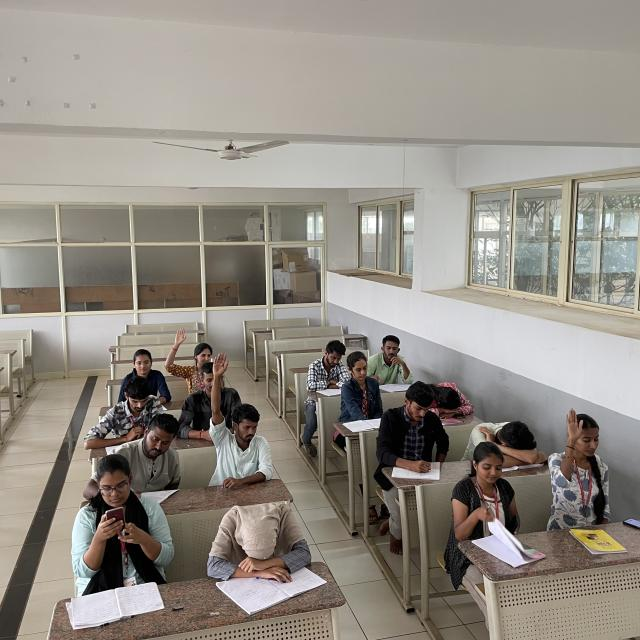Hand Rising: (209, 350, 276, 474), (547, 404, 609, 502), (162, 326, 215, 384)
Reading: (85, 378, 160, 453), (307, 339, 354, 398)
Sleeping: (204, 496, 312, 570), (467, 420, 552, 468), (426, 377, 475, 418)
Using Phone: (75, 452, 171, 578)
Writing: (378, 381, 442, 476)
